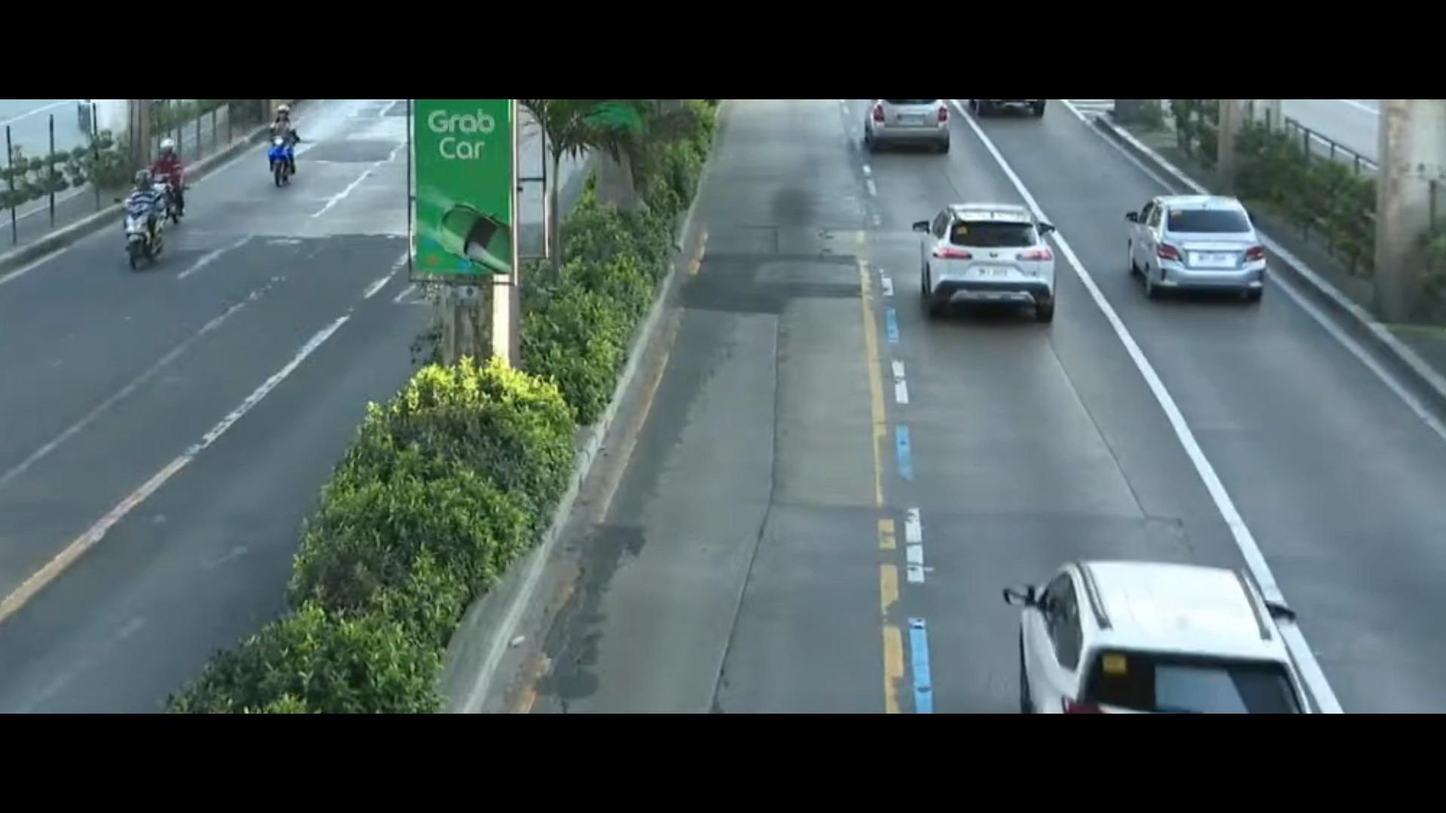Motorcycle: (110, 160, 186, 271), (141, 125, 223, 223), (248, 100, 320, 197)
SUV: (1002, 546, 1332, 720), (899, 187, 1077, 328)
Sedan: (1102, 157, 1295, 322)
